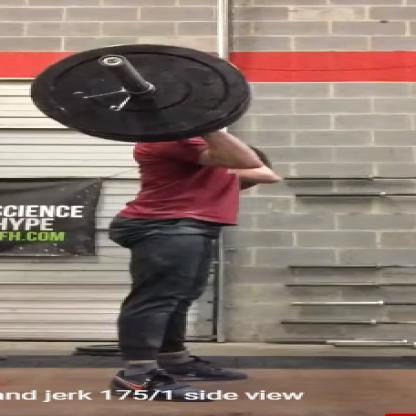Barbell: (98, 55, 132, 70)
